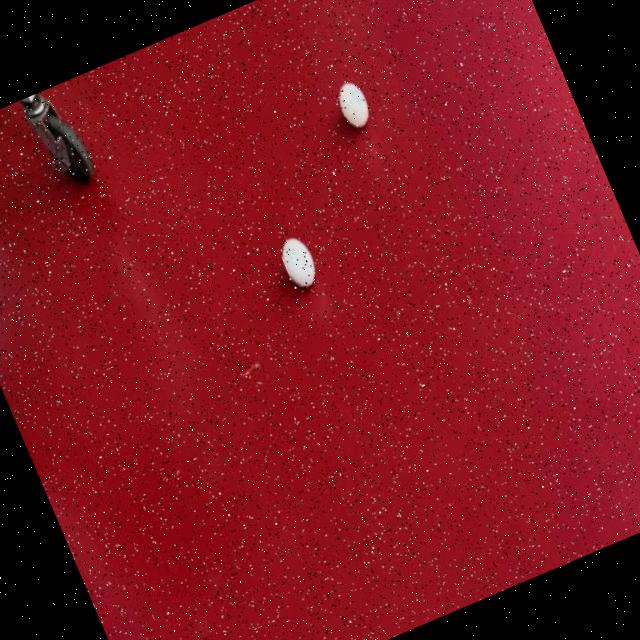ping-pong-ball: (272, 228, 326, 296), (329, 74, 377, 134)
